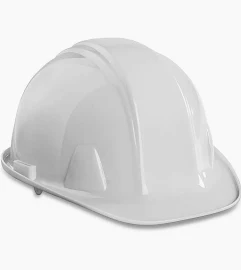Casco de seguridad: (0, 38, 241, 233)
